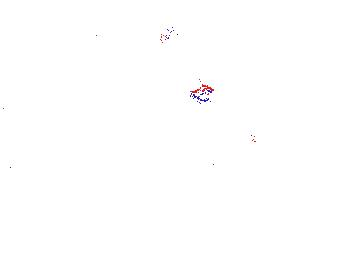X-ray fish: (305, 219, 321, 251), (249, 123, 263, 150)
red belly glassfish: (191, 80, 215, 103), (158, 25, 175, 46)
